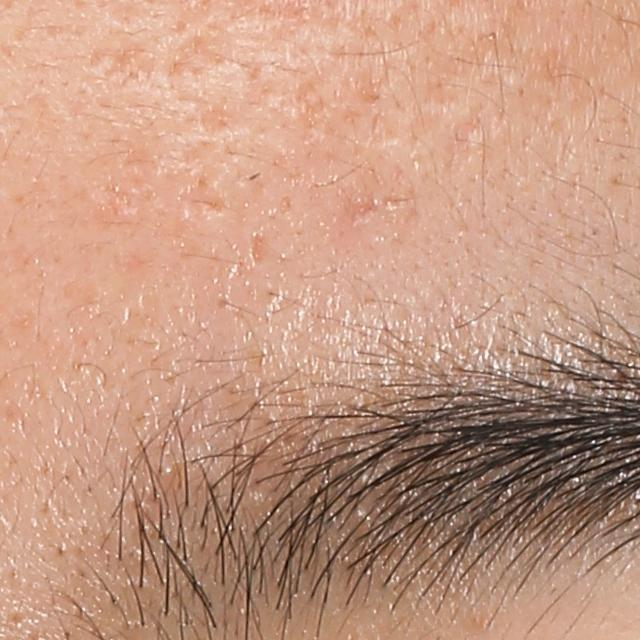atrophic_scar: (167, 24, 236, 76), (85, 40, 160, 82), (176, 180, 229, 222), (249, 232, 270, 267)
